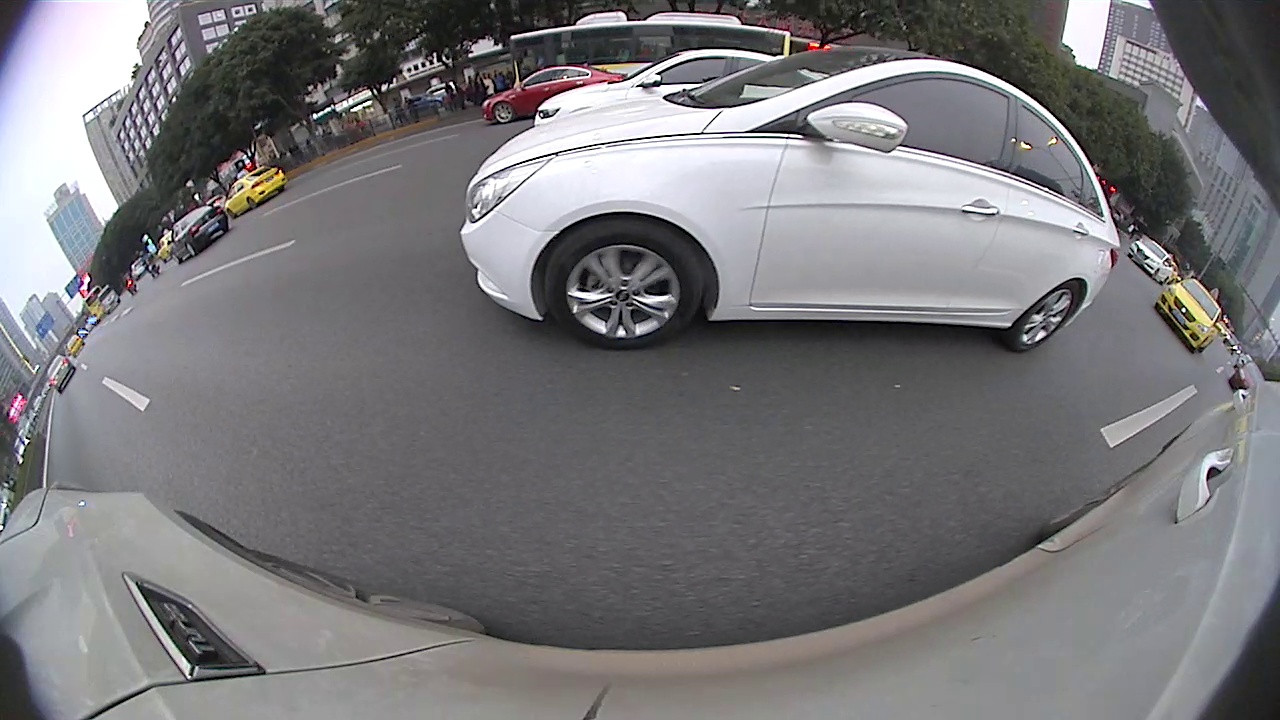bus: (511, 11, 791, 94)
car: (458, 45, 1120, 353), (533, 49, 794, 138), (481, 66, 627, 125), (1149, 280, 1222, 360), (166, 205, 230, 265), (224, 165, 288, 220), (1131, 236, 1169, 277), (46, 355, 77, 396)
front: (546, 218, 705, 347), (494, 104, 515, 122)
rear: (1009, 280, 1079, 352)
